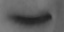LeftEyeFatigue: (7, 4, 57, 31)
